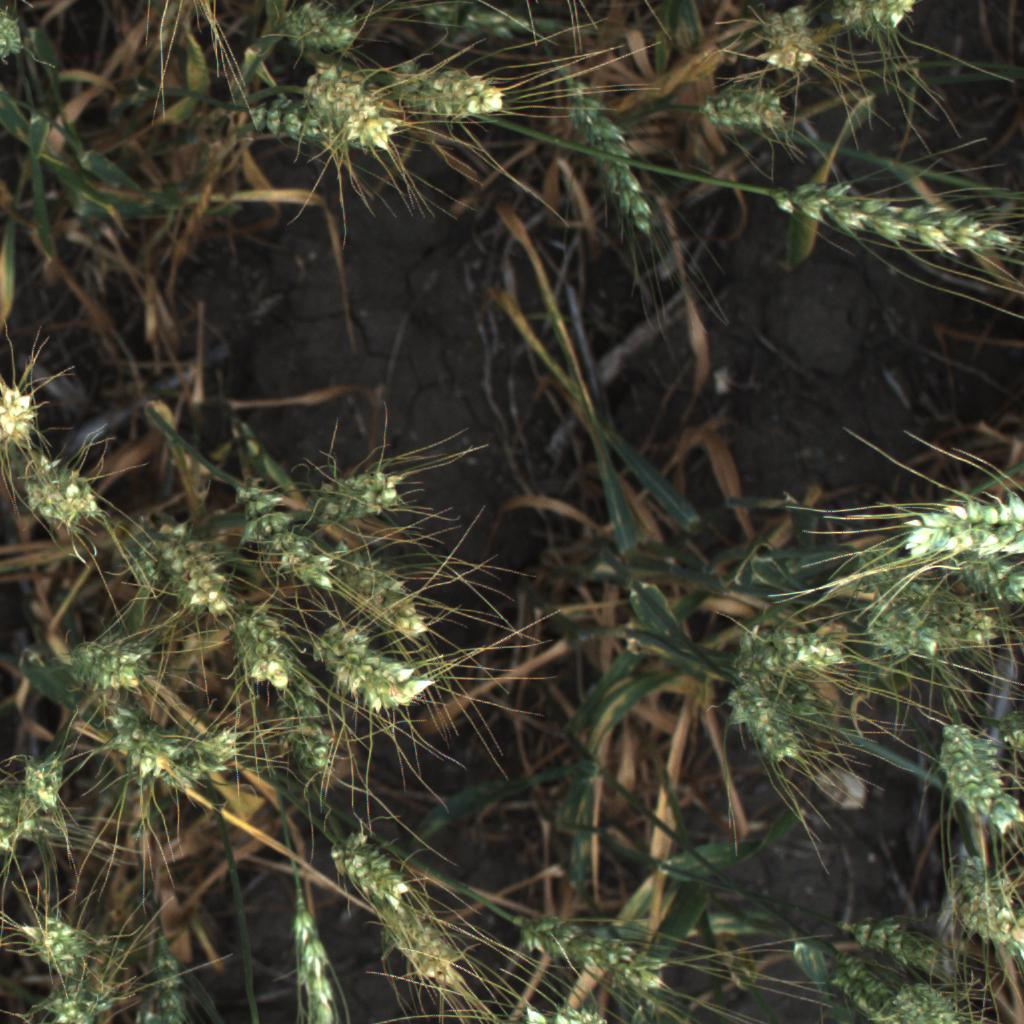0-0: (768, 170, 1024, 266), (555, 63, 664, 249), (223, 472, 348, 596), (513, 909, 670, 997), (303, 626, 445, 717), (328, 535, 438, 643), (142, 511, 248, 622), (889, 484, 1024, 567), (293, 67, 405, 156), (278, 885, 348, 1024), (370, 57, 511, 126), (850, 599, 999, 658), (925, 713, 1002, 824), (725, 680, 817, 772), (99, 704, 190, 797), (723, 621, 857, 683), (324, 823, 415, 914), (943, 852, 1024, 954), (61, 630, 175, 702), (378, 902, 468, 991), (269, 692, 352, 784), (11, 906, 107, 982), (957, 725, 1023, 835), (146, 720, 252, 787), (18, 454, 106, 532), (264, 0, 373, 62), (228, 608, 301, 700), (240, 89, 346, 152), (311, 462, 420, 522), (690, 82, 797, 142), (834, 915, 946, 972), (9, 734, 73, 826), (138, 934, 199, 1024), (827, 952, 902, 1024), (748, 4, 824, 75), (0, 370, 50, 457), (959, 543, 1024, 606), (0, 3, 52, 77), (834, 0, 919, 45), (34, 980, 120, 1024), (892, 980, 965, 1024), (0, 785, 43, 851), (515, 1001, 614, 1024)
